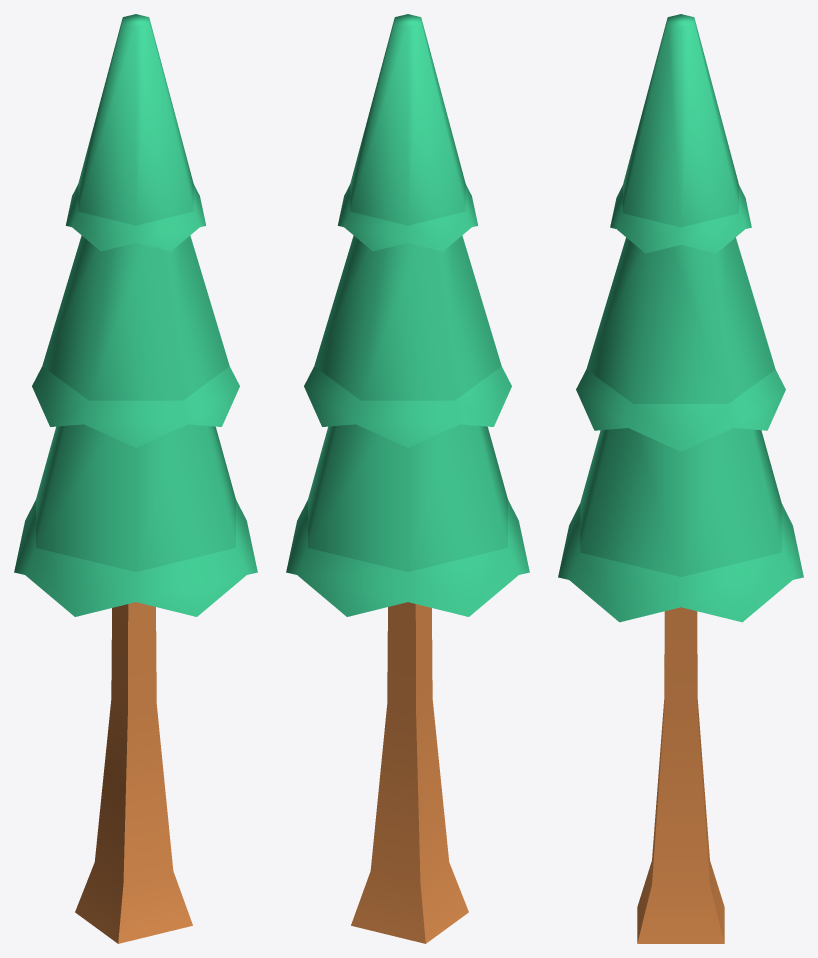
Rendered from bigTreeTestTwo.fbx.
3 renders of one model, left to right at view 1: azimuth 30°, elevation 25°; view 2: azimuth 150°, elevation 25°; view 3: azimuth 270°, elevation 25°, orthographic.
Visible parts, largest first — view 1: treeLarge; view 2: treeLarge; view 3: treeLarge.
Boxes of the visible parts, x1,y1,x2,y2 form: treeLarge: (14,14,257,943); treeLarge: (286,14,529,943); treeLarge: (558,14,803,943).
Bounding box in the file's own units: 221 × 210 × 855.
